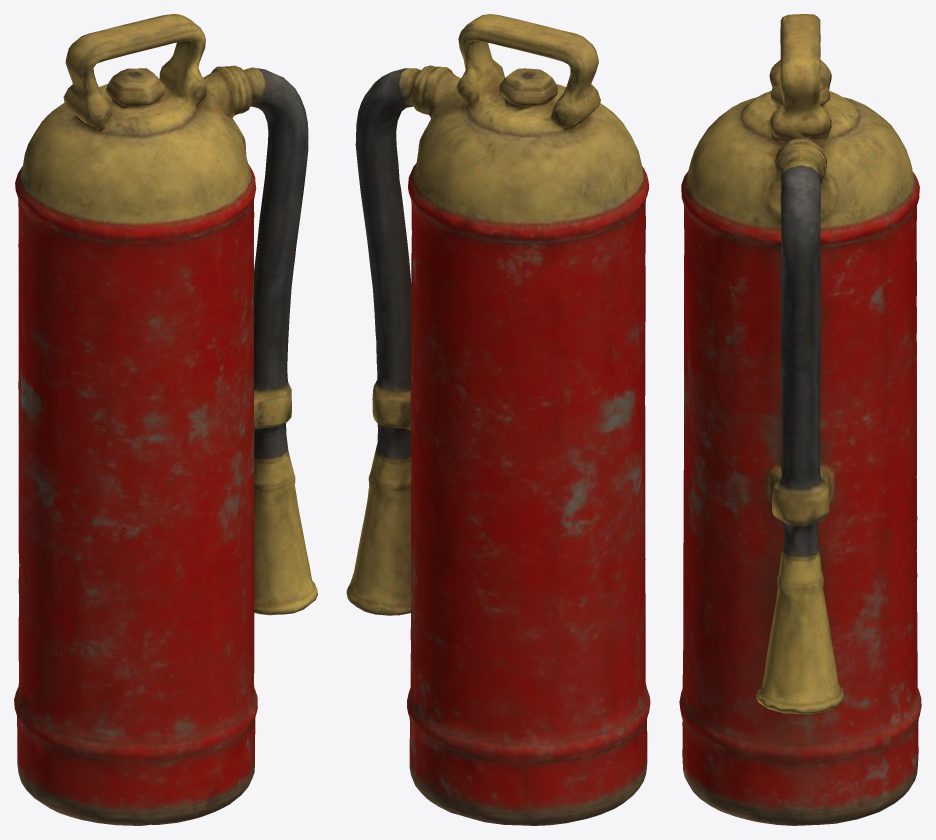
Rendered from fire-extinguisher.glb.
3 views of the same model, side by side, from view 1: azimuth 30°, elevation 25°; view 2: azimuth 150°, elevation 25°; view 3: azimuth 270°, elevation 25° (orthographic).
Visible parts, largest first — view 1: Mesh_0; view 2: Mesh_0; view 3: Mesh_0.
Boxes of the visible parts, bbox=[...] form: Mesh_0: bbox=[14, 14, 317, 825]; Mesh_0: bbox=[346, 14, 650, 825]; Mesh_0: bbox=[679, 14, 921, 825].
Bounding box in the file's own units: 0.199 × 0.5089 × 0.15.
Materials: 1 (1 with a texture image).
